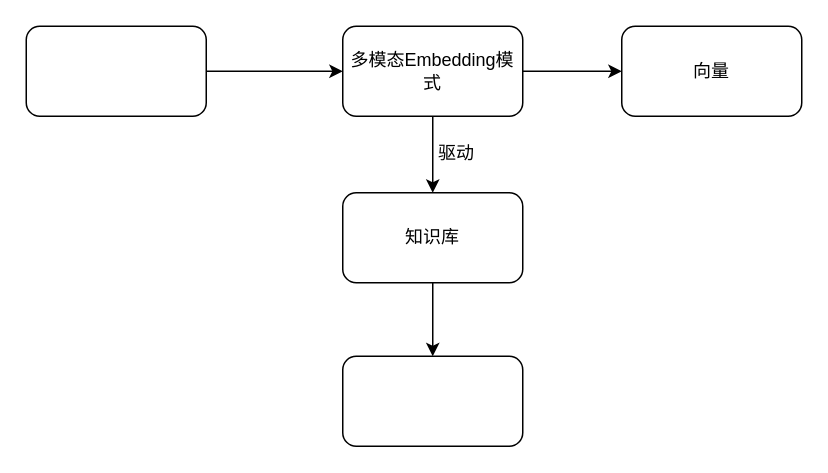
The diagram is 828 pixels wide and 473 high, and some of its shapes have lost their labels. The centre of each missing label's shape, as x and y in pixels:
多模态数据: point (115, 70)
多模态智能体: point (432, 400)
